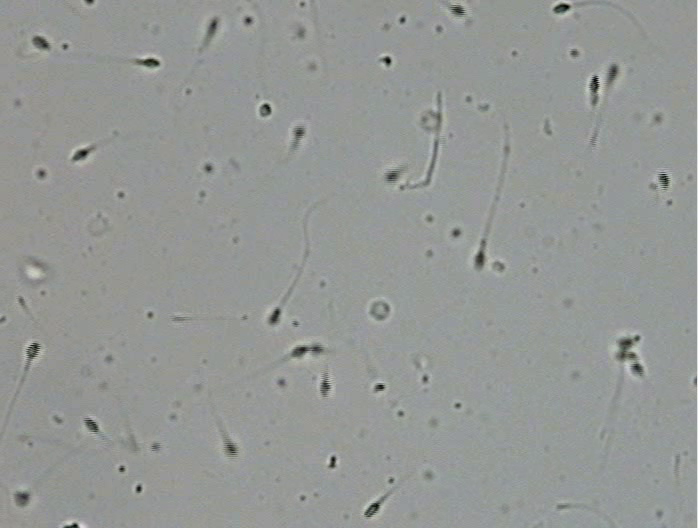Impurity: (368, 298, 390, 319)
S: (615, 338, 633, 361), (292, 125, 306, 146), (26, 342, 41, 361), (657, 171, 671, 191), (83, 417, 99, 434), (32, 36, 50, 51), (364, 502, 380, 518), (223, 442, 238, 459), (14, 492, 30, 507), (319, 379, 332, 397), (449, 4, 466, 17), (138, 58, 160, 68), (588, 75, 600, 93), (72, 149, 89, 161), (292, 345, 309, 357), (207, 19, 218, 37), (607, 64, 618, 82), (268, 308, 280, 324), (385, 170, 399, 183), (553, 4, 571, 14), (475, 251, 485, 268), (630, 363, 643, 376), (260, 103, 272, 117), (308, 344, 323, 354), (84, 1, 94, 6)
